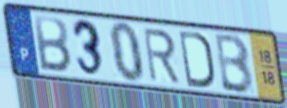0: (106, 19, 147, 85)
3: (71, 17, 109, 80)
B: (214, 32, 256, 97), (32, 13, 74, 75)
D: (177, 28, 215, 91)
R: (141, 27, 183, 86)
